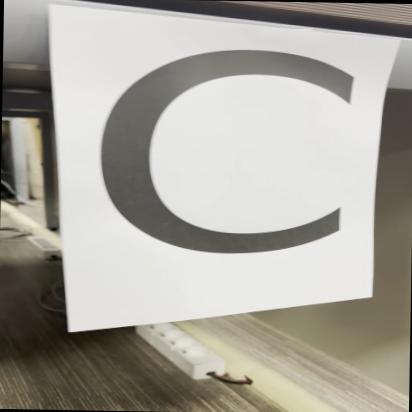seat: (54, 18, 378, 302)
